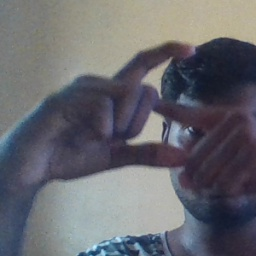E: (106, 37, 207, 171)
